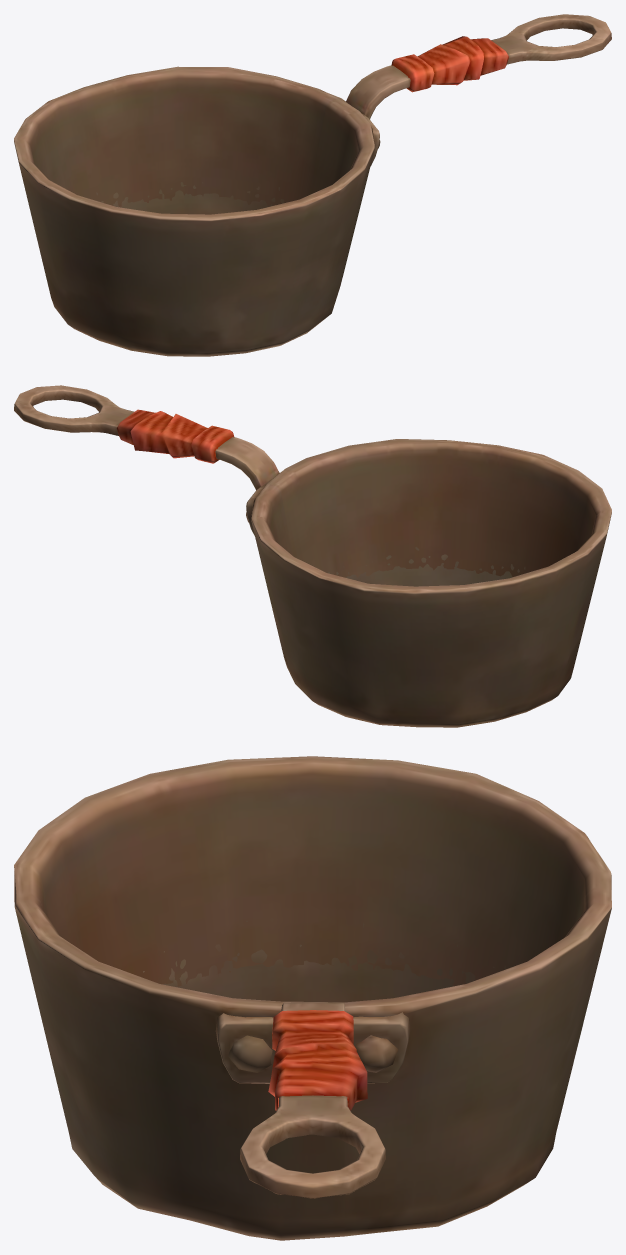
The picture shows the model from 3 angles, top to bottom: view 1: azimuth 30°, elevation 25°; view 2: azimuth 150°, elevation 25°; view 3: azimuth 270°, elevation 25°; orthographic projection. The views are drawn at different scales.
Parts seen in each view (by area): view 1: SM_Dec_Kitchen_Brass_Pot_Small_LOD0; view 2: SM_Dec_Kitchen_Brass_Pot_Small_LOD0; view 3: SM_Dec_Kitchen_Brass_Pot_Small_LOD0.
Boxes of the visible parts, x1,y1,x2,y2 form: SM_Dec_Kitchen_Brass_Pot_Small_LOD0: (14, 14, 611, 356); SM_Dec_Kitchen_Brass_Pot_Small_LOD0: (14, 385, 611, 727); SM_Dec_Kitchen_Brass_Pot_Small_LOD0: (14, 756, 611, 1240).
Bounding box in the file's own units: 0.6898 × 0.217 × 0.3755.
1 material, 1 textured.
